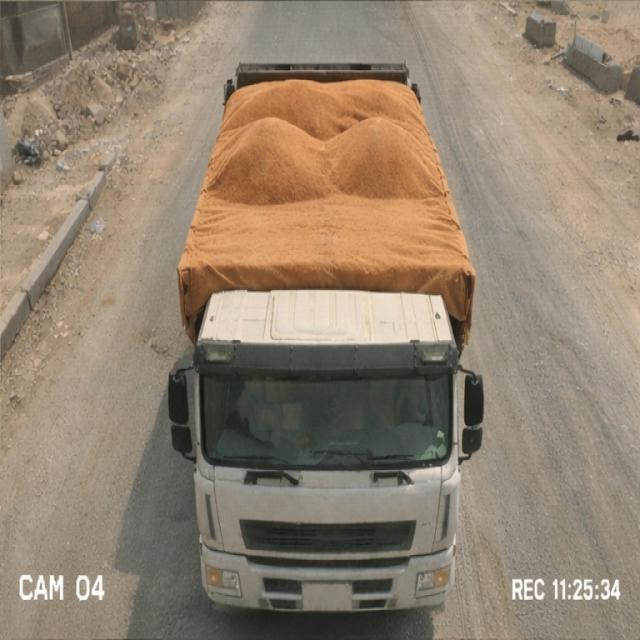trailer: (170, 55, 481, 284)
truck: (159, 39, 489, 630)
